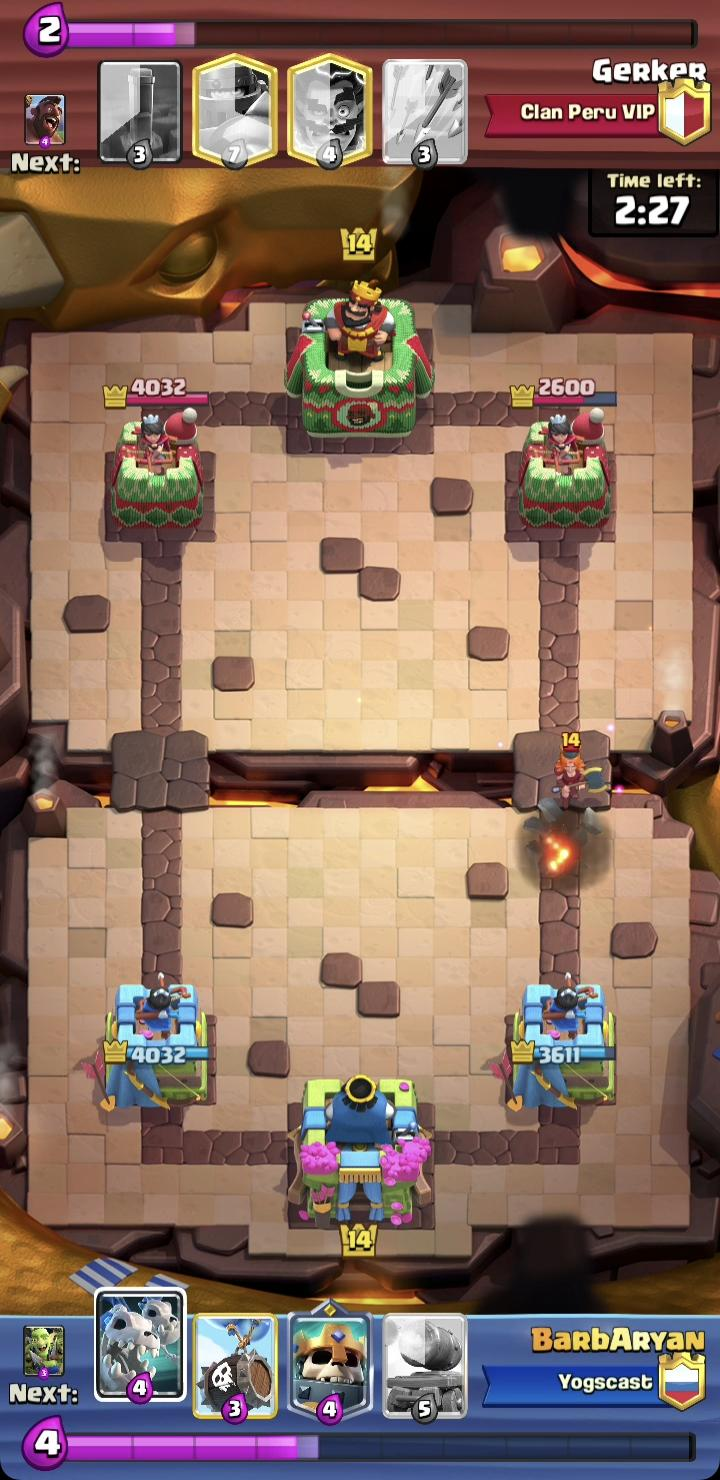enemy_valkyrie: (551, 731, 609, 814)
